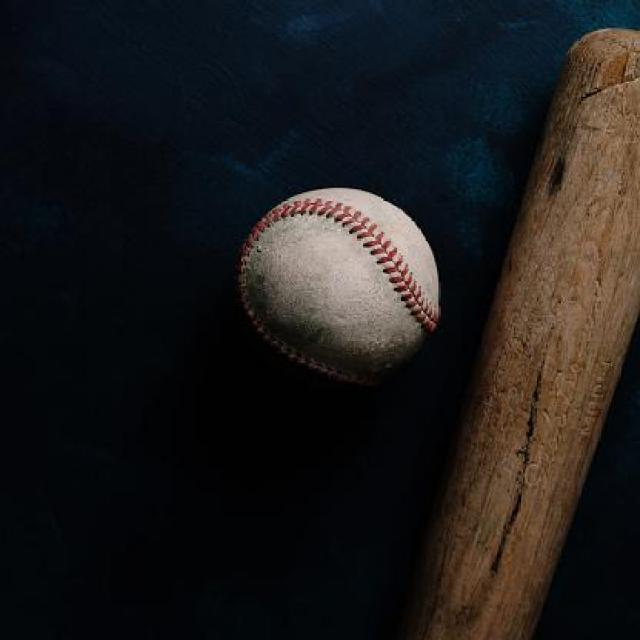baseball: (233, 184, 442, 384)
